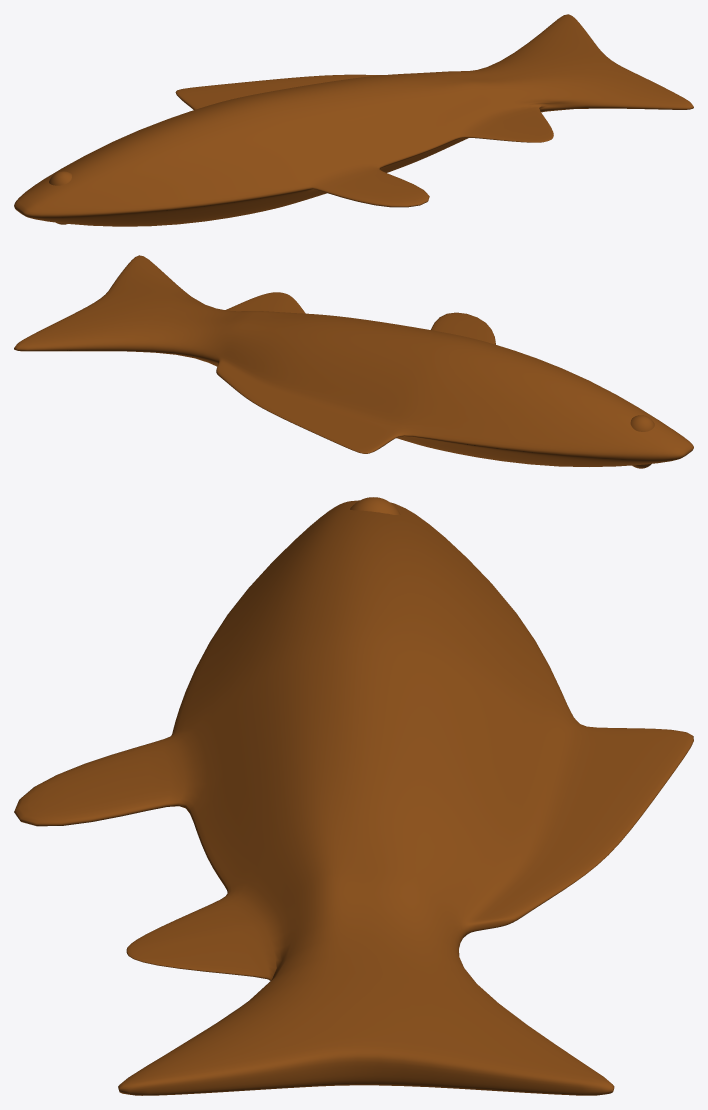
File: Fish01.fbx
3 renders of one model, top to bottom at view 1: azimuth 30°, elevation 25°; view 2: azimuth 150°, elevation 25°; view 3: azimuth 270°, elevation 25°, orthographic. The views are drawn at different scales.
Visible parts, largest first — view 1: Fish01; view 2: Fish01; view 3: Fish01.
Boxes of the visible parts, x1,y1,x2,y2 form: Fish01: [14, 14, 693, 226]; Fish01: [14, 255, 693, 468]; Fish01: [14, 497, 693, 1095].
Size of the model in its own units: 458 by 72.56 by 225.
